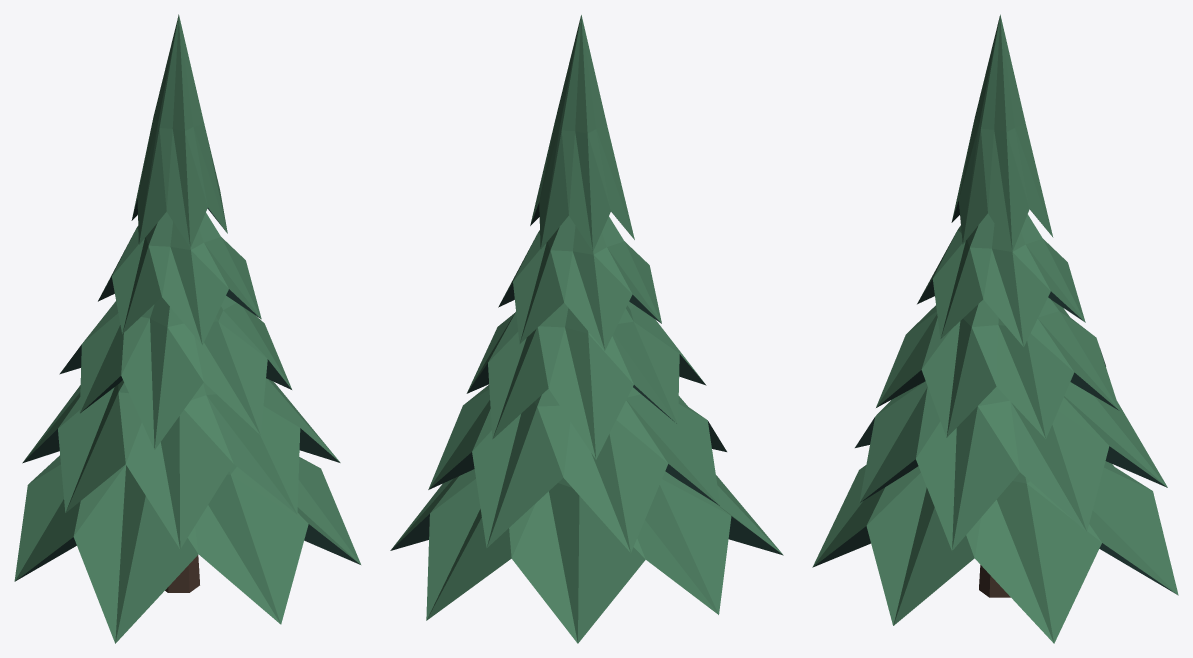
File: pine.glb
The picture shows the model from 3 angles, left to right: view 1: azimuth 30°, elevation 25°; view 2: azimuth 150°, elevation 25°; view 3: azimuth 270°, elevation 25°; orthographic projection.
Parts seen in each view (by area): view 1: needles_lit, under, trunk; view 2: needles_lit, under; view 3: needles_lit, under, trunk.
Boxes of the visible parts, left/top/right/bottom form: needles_lit: left=14, top=14, right=360, bottom=643; under: left=15, top=199, right=360, bottom=581; trunk: left=165, top=555, right=199, bottom=592; needles_lit: left=391, top=15, right=783, bottom=643; under: left=390, top=202, right=782, bottom=555; needles_lit: left=812, top=14, right=1178, bottom=643; under: left=813, top=201, right=1176, bottom=594; trunk: left=979, top=565, right=1010, bottom=597.
Bounding box in the file's own units: 1.51 × 2.66 × 1.53.
